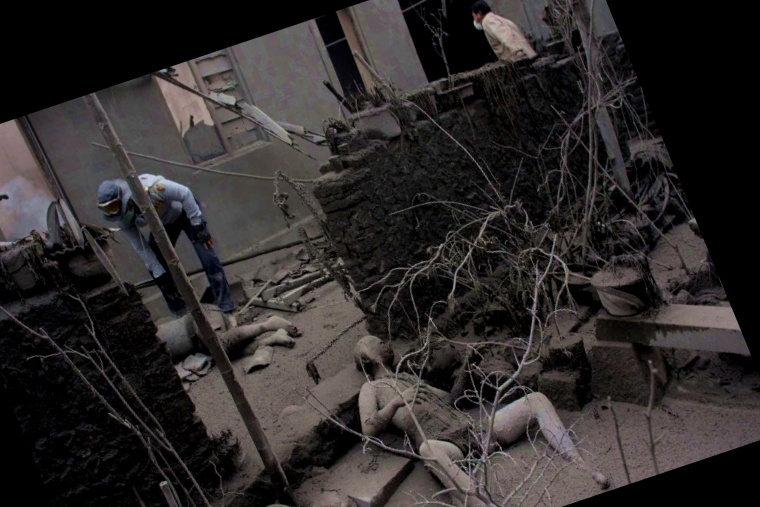BukanKorban: (88, 155, 247, 352), (464, 0, 539, 72)
Korban: (327, 281, 611, 507), (149, 277, 306, 387)
